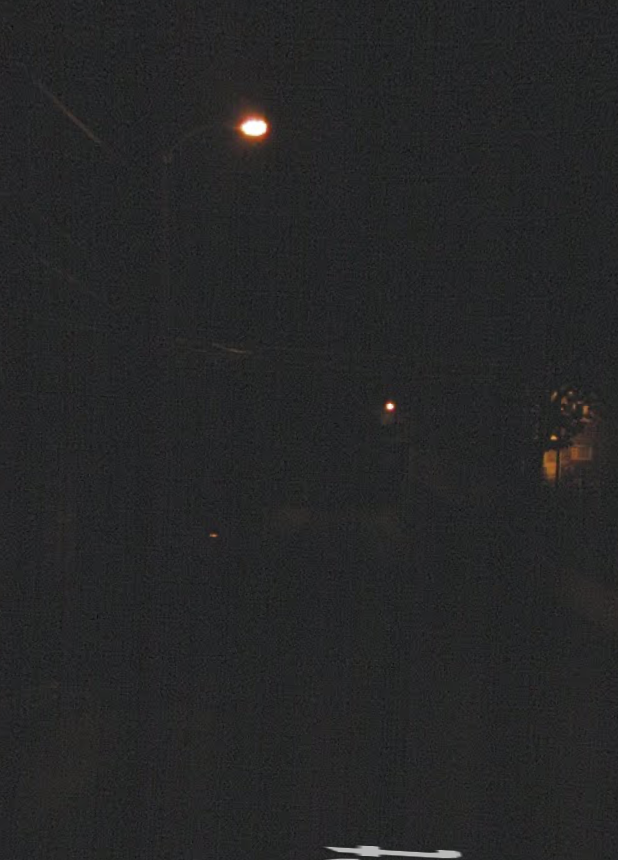HPS: (229, 112, 284, 149)
